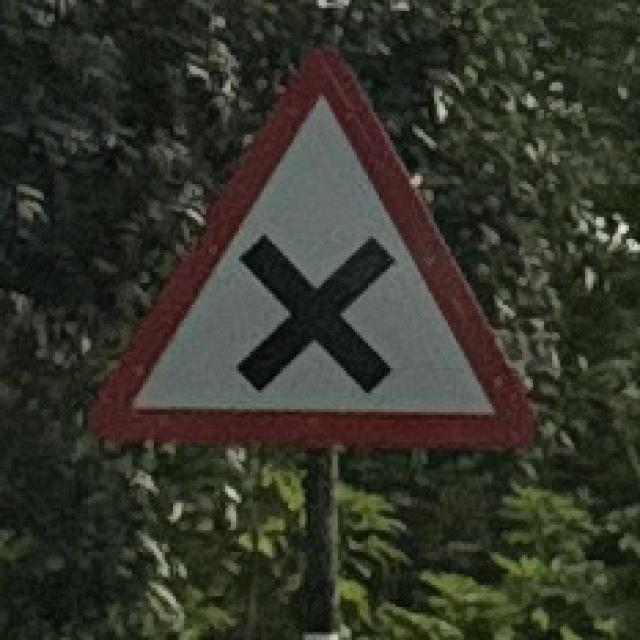CROSS_ROAD: (68, 25, 546, 464)
